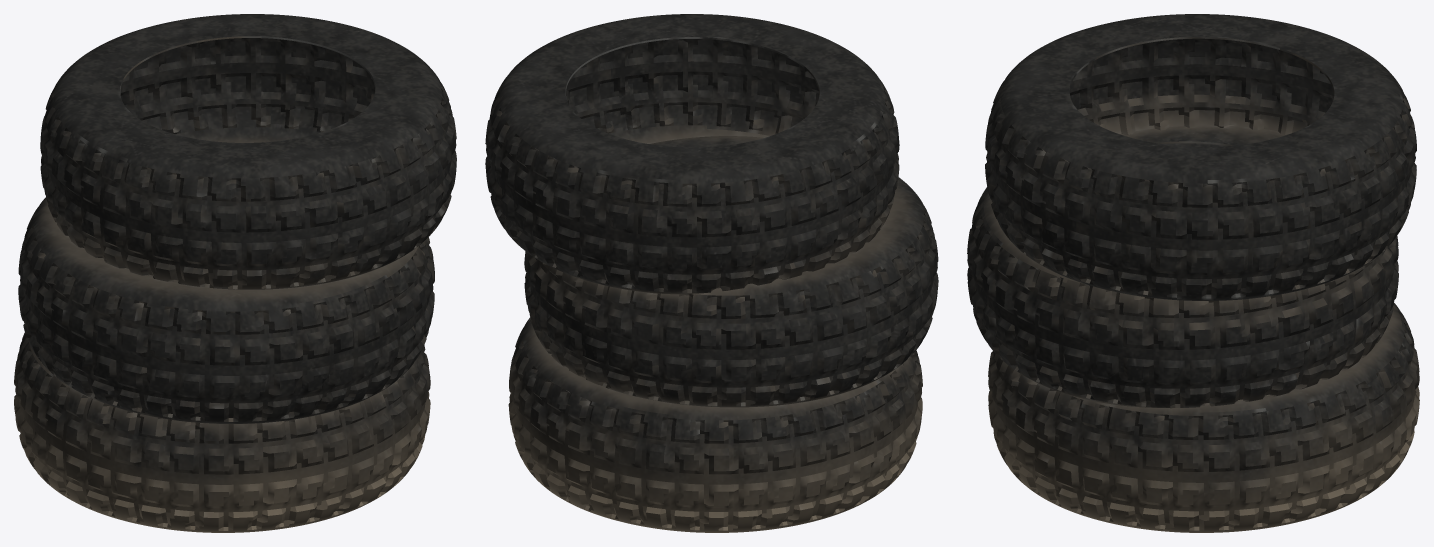
File: SM_TireStack_Body.fbx
The picture shows the model from 3 angles, left to right: view 1: azimuth 30°, elevation 25°; view 2: azimuth 150°, elevation 25°; view 3: azimuth 270°, elevation 25°; orthographic projection. The views are drawn at different scales.
Visible parts, largest first — view 1: TireStack_Body; view 2: TireStack_Body; view 3: TireStack_Body.
Part boxes in pixels (bbox=[...]): TireStack_Body: bbox=[14, 14, 456, 532]; TireStack_Body: bbox=[485, 14, 938, 532]; TireStack_Body: bbox=[967, 14, 1419, 532].
Size of the model in its own units: 0.691 by 0.715 by 0.6359.
Materials: 1 (1 with a texture image).
